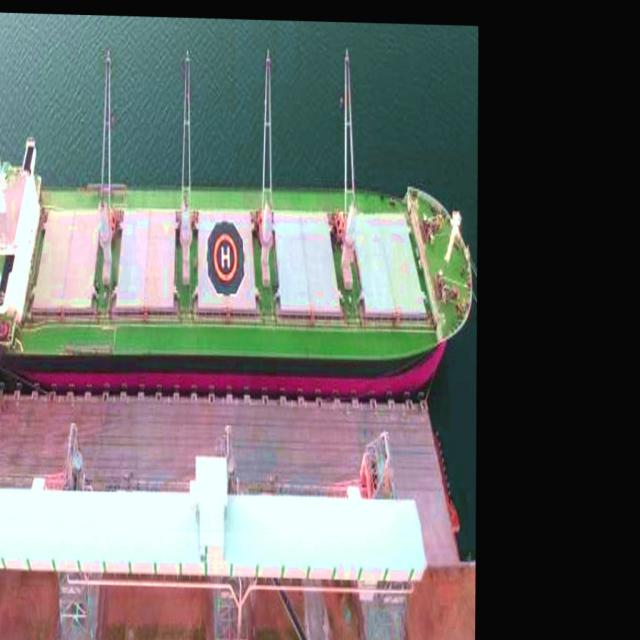helipad: (212, 233, 238, 281)
